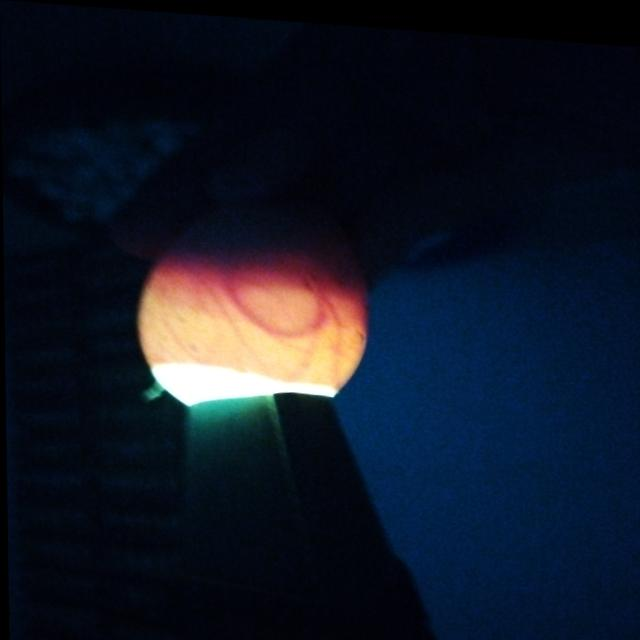Embriao: (165, 198, 365, 285)
